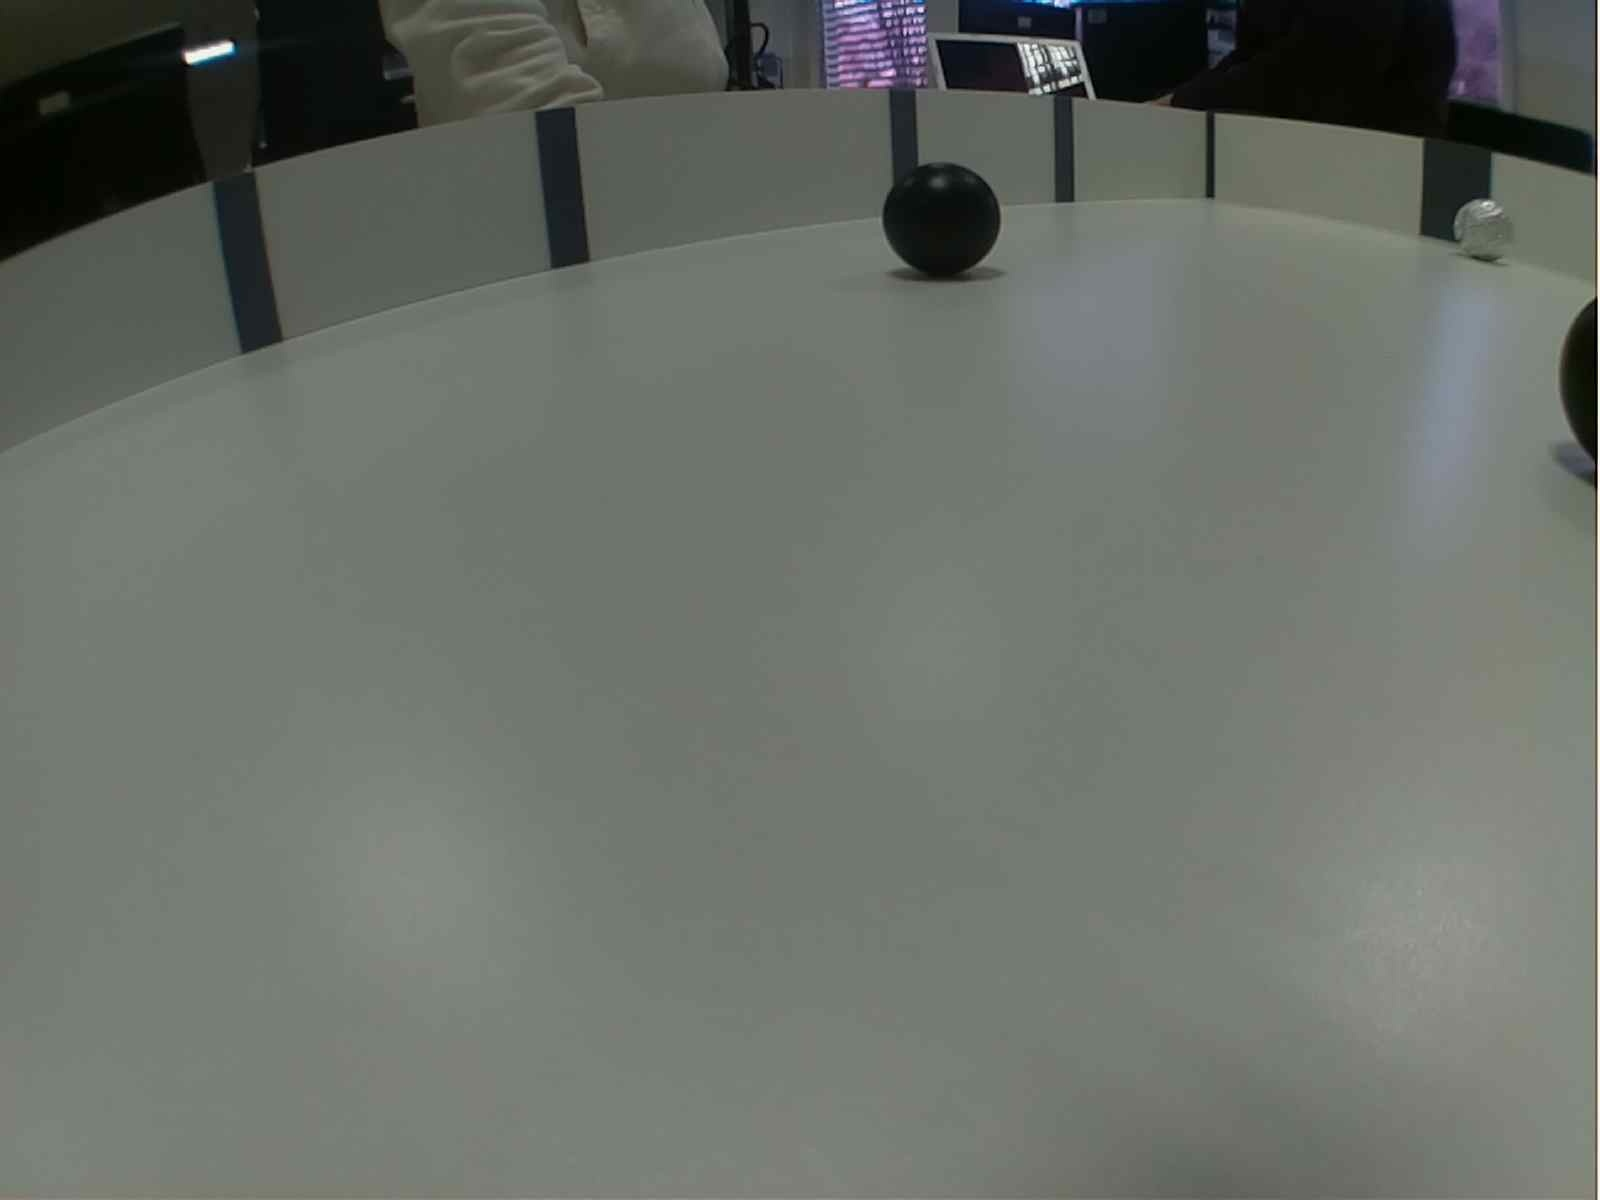bianca: (1448, 195, 1522, 267)
nera: (879, 159, 1007, 284), (1555, 289, 1600, 484)
